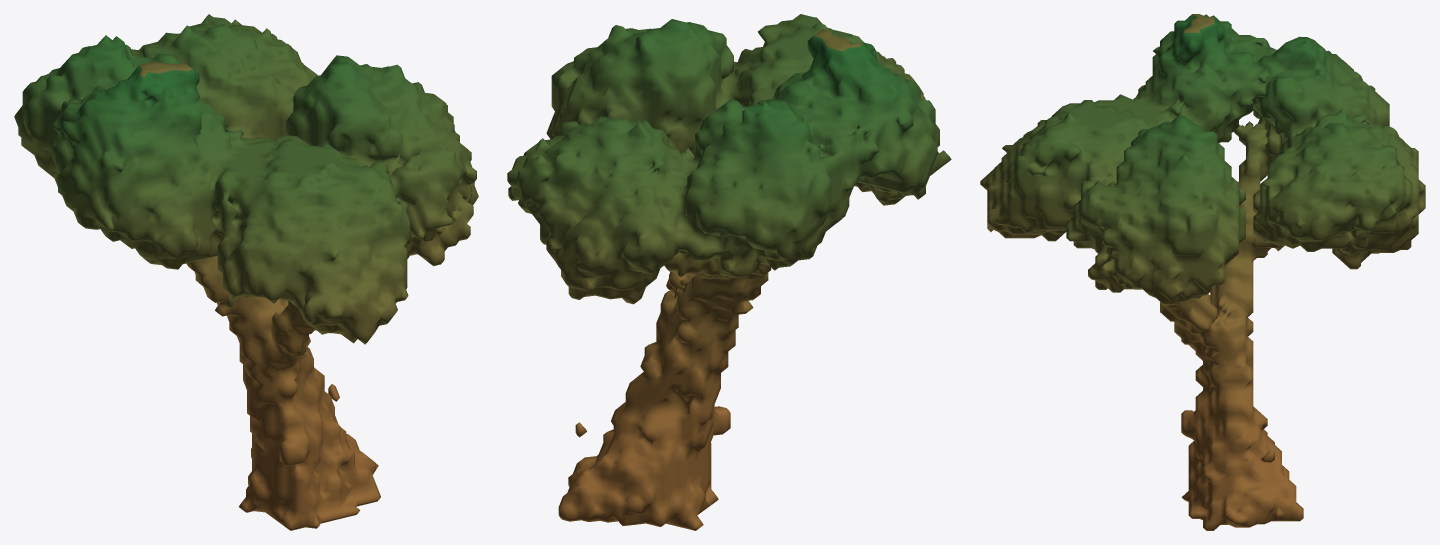
The model's file is gen7_colored.obj.
3 views of the same model, side by side, from view 1: azimuth 30°, elevation 25°; view 2: azimuth 150°, elevation 25°; view 3: azimuth 270°, elevation 25° (orthographic). The views are drawn at different scales.
Size of the model in its own units: 51 by 64 by 62.
1 material, 1 textured.
